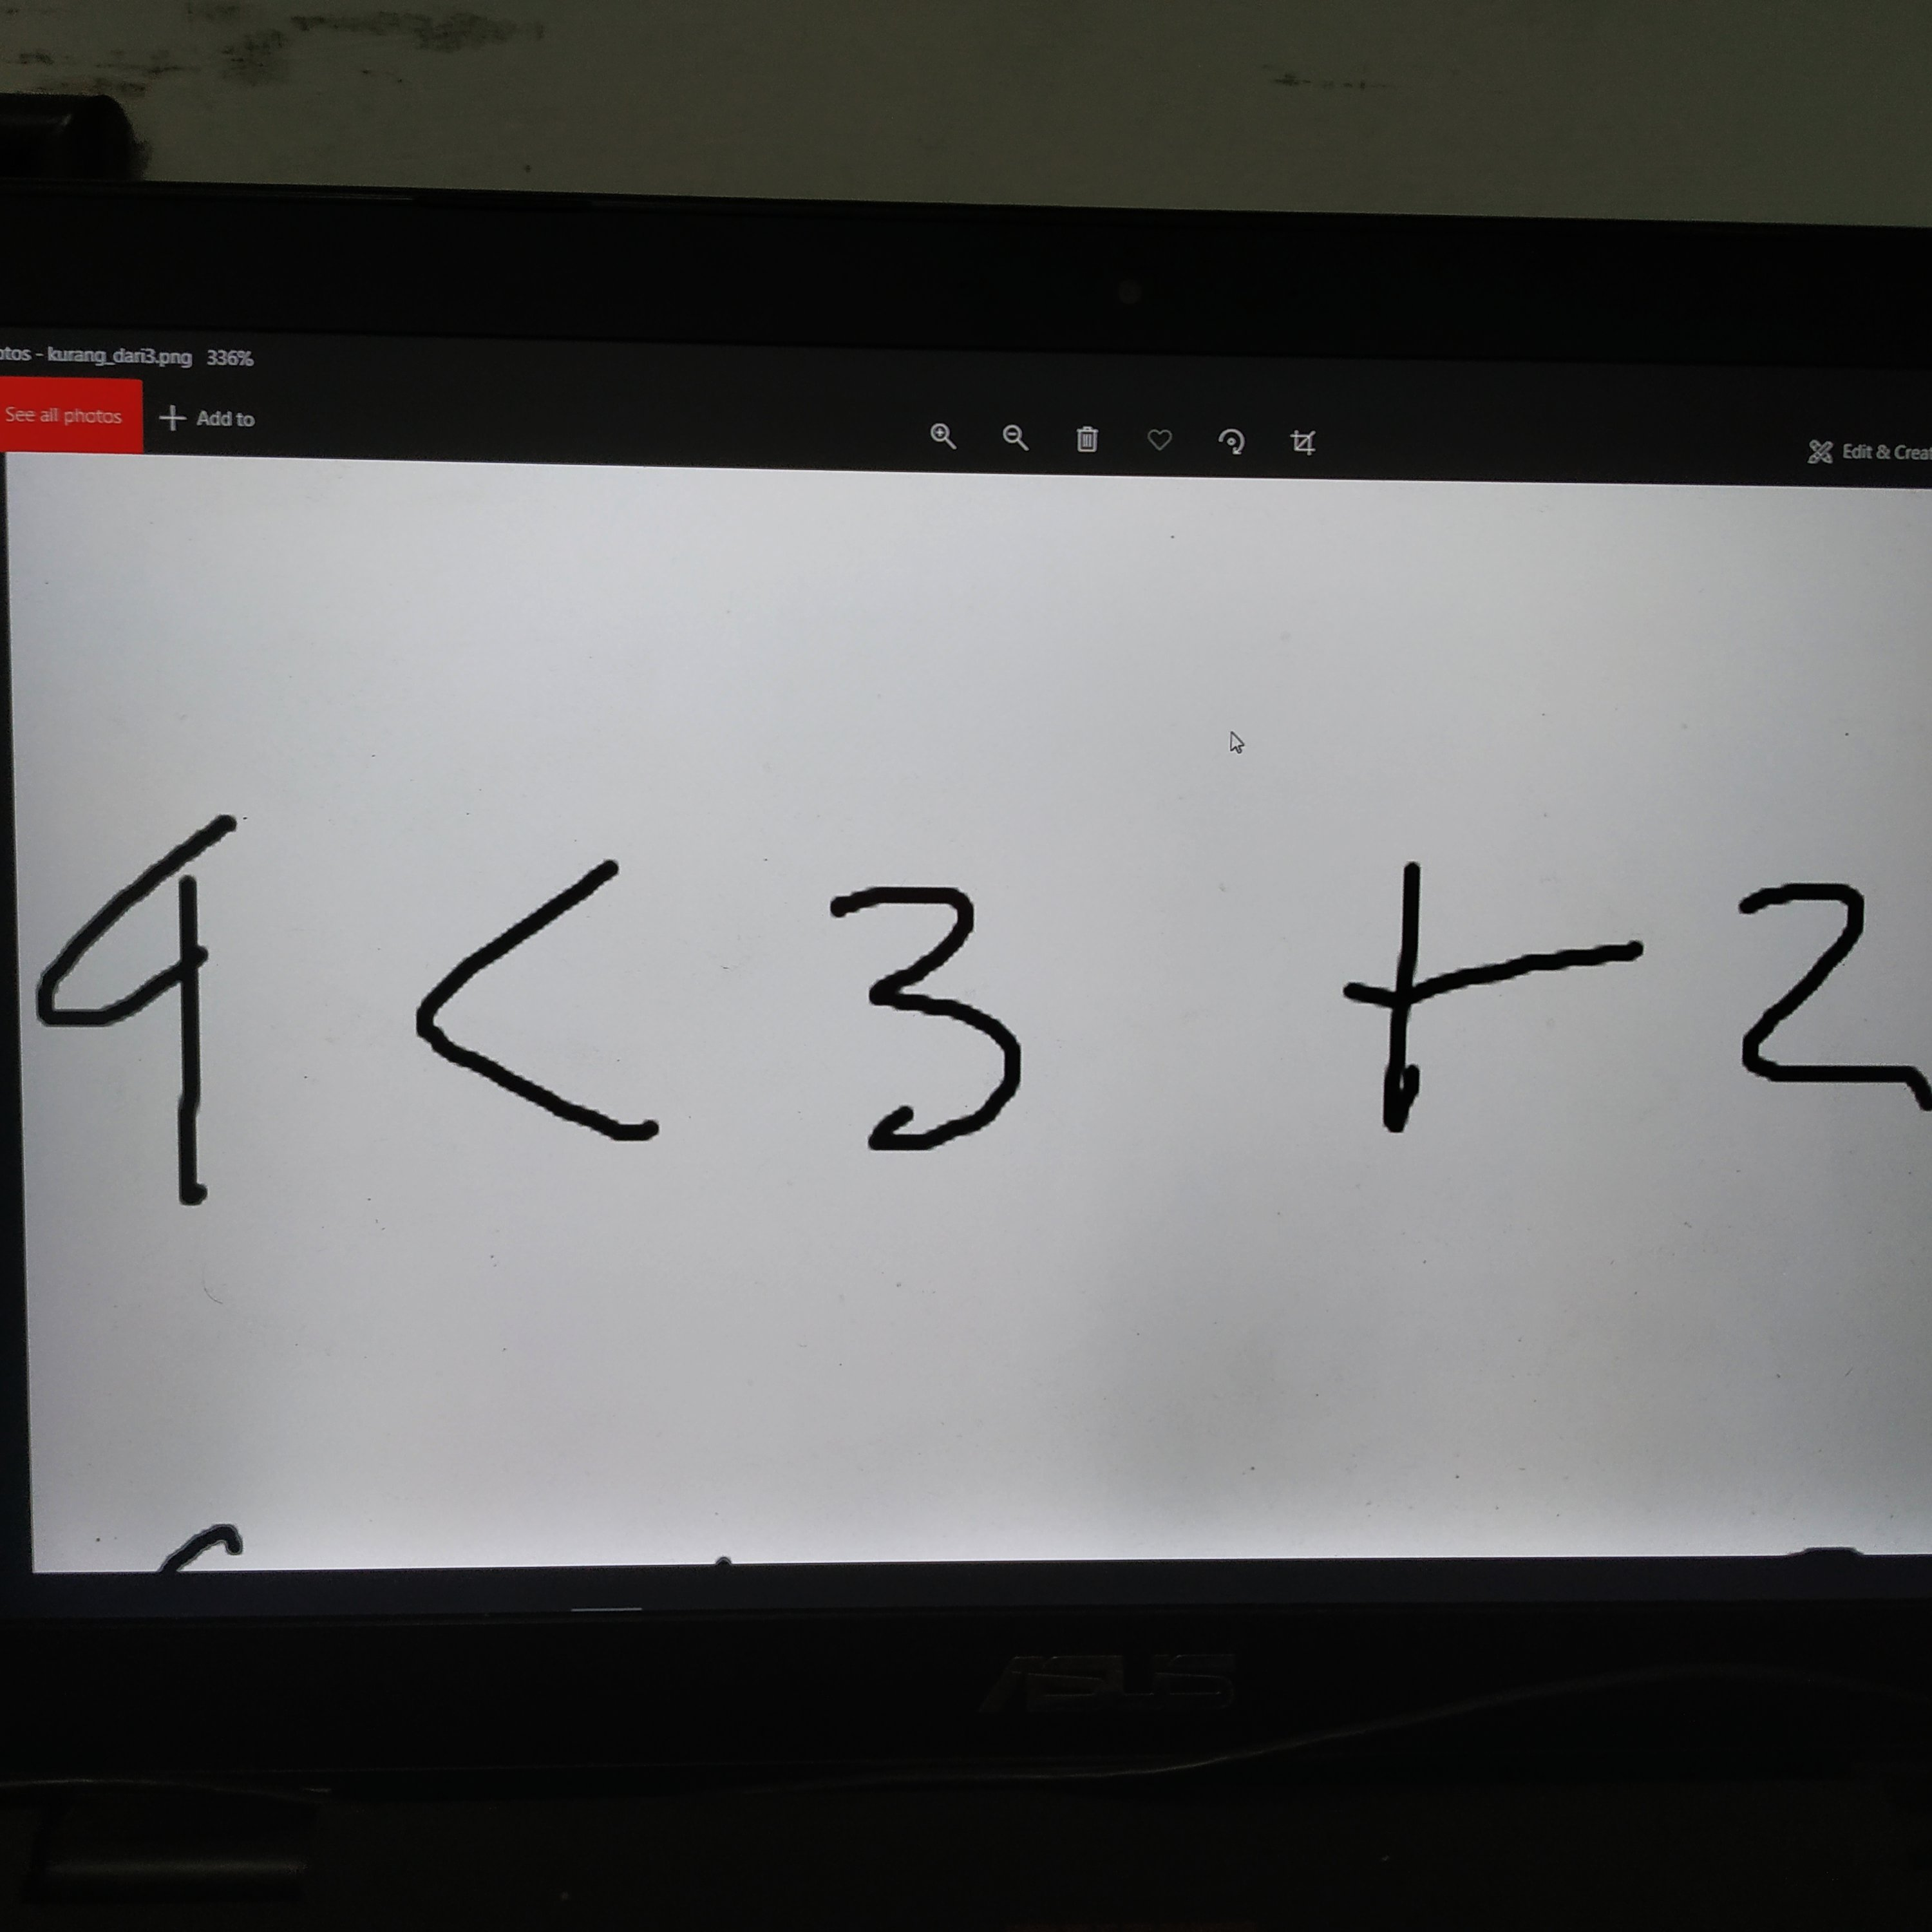lessthan: (408, 838, 703, 1172)
num2: (1698, 872, 1932, 1123)
num3: (809, 882, 1056, 1182)
num4: (28, 811, 278, 1221)
sum: (1314, 829, 1671, 1155)
